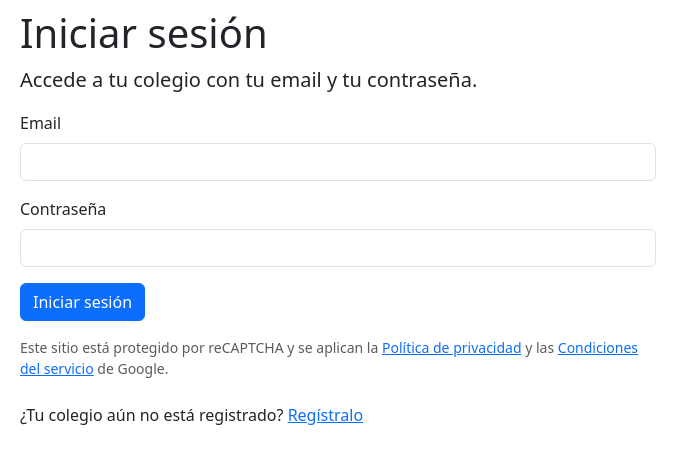
Scenario: LoginPage › the validation before sending › shows the error of a field when the user leaves it empty
Click the field labelled "Email" at (338,162), box [20,143,656,181]
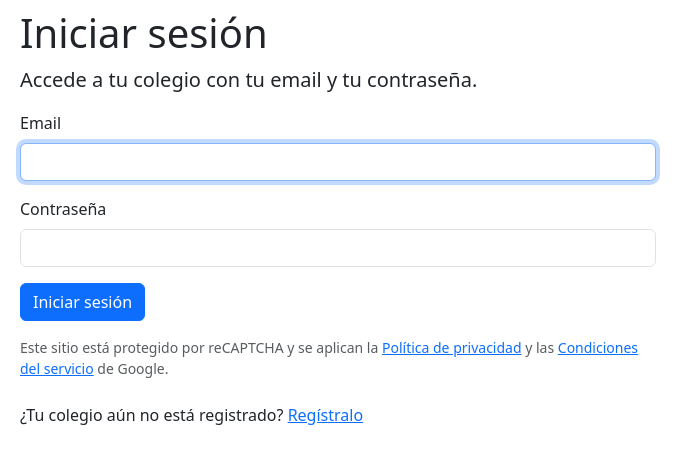
Press Tab
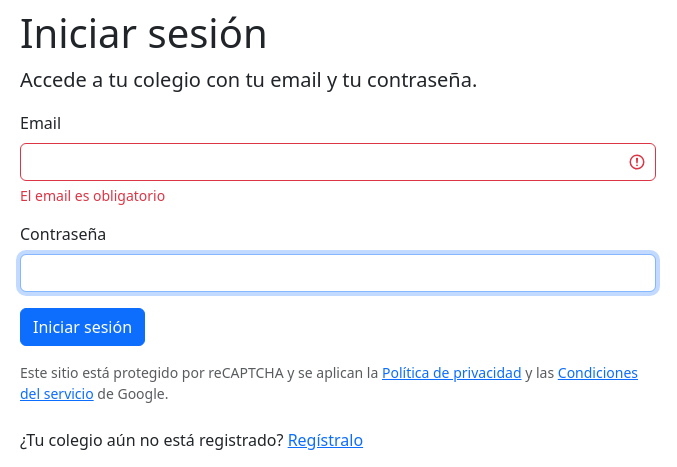
expect the message reads "El email es obligatorio": met, box [20,186,165,205]
